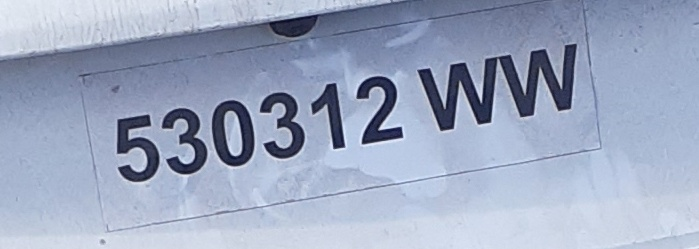0: (207, 94, 256, 171)
1: (308, 76, 351, 155)
2: (352, 67, 410, 149)
3: (260, 83, 309, 170), (160, 101, 207, 181)
5: (108, 110, 165, 185)
w: (413, 49, 497, 136), (498, 40, 581, 122)
